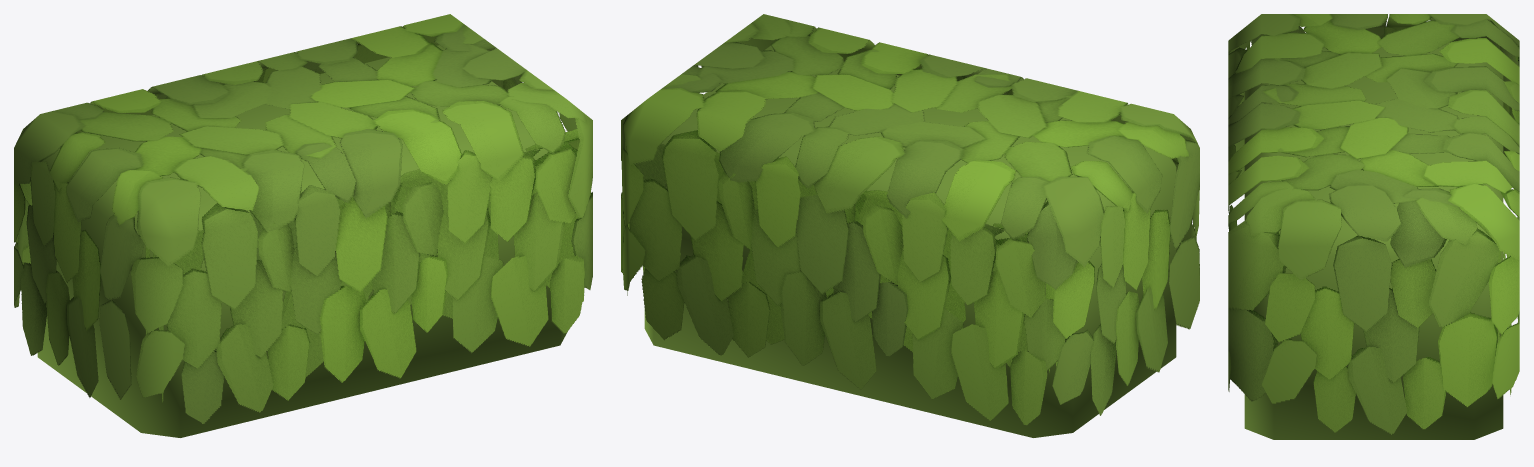
Rendered from Foliage3.glb.
3 renders of one model, left to right at view 1: azimuth 30°, elevation 25°; view 2: azimuth 150°, elevation 25°; view 3: azimuth 270°, elevation 25°, orthographic. The views are drawn at different scales.
Visible parts, largest first — view 1: Cube_403; view 2: Cube_403; view 3: Cube_403.
Part boxes in pixels (left/top/right/bottom): Cube_403: left=14, top=14, right=592, bottom=437; Cube_403: left=621, top=14, right=1199, bottom=437; Cube_403: left=1228, top=14, right=1519, bottom=439.
Size of the model in its own units: 1.28 by 0.6361 by 0.7195.
Materials: 1 (1 with a texture image).
